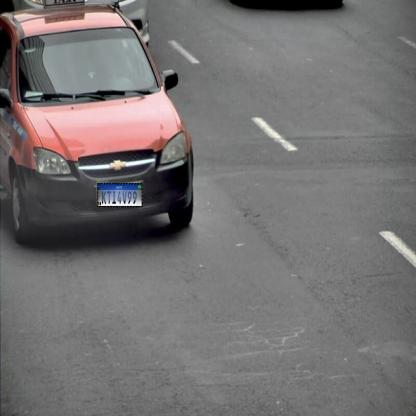PlacaM: (97, 183, 142, 207)
